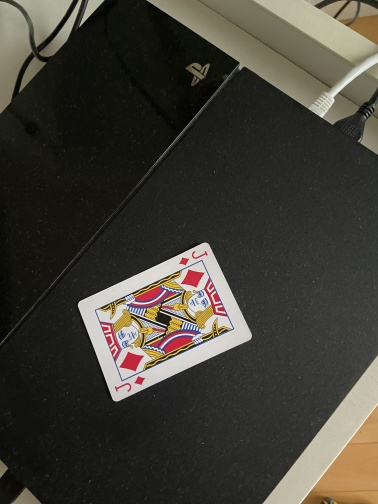jack: (76, 239, 254, 404)
